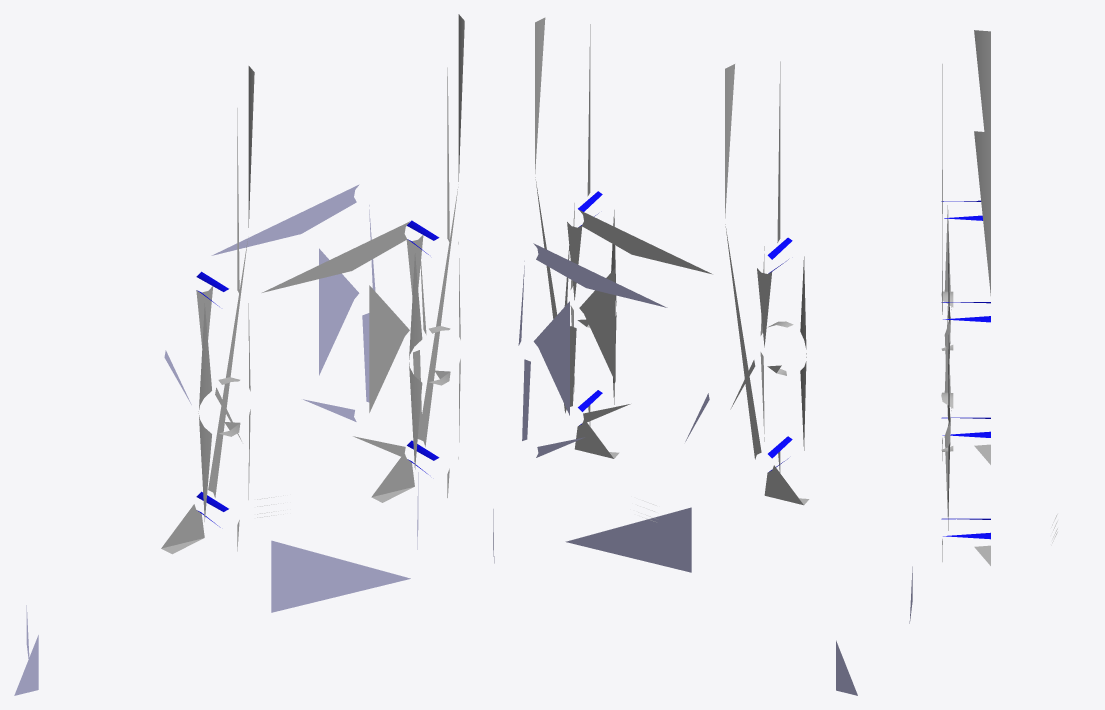
3 views of the same model, side by side, from view 1: azimuth 30°, elevation 25°; view 2: azimuth 150°, elevation 25°; view 3: azimuth 270°, elevation 25° (orthographic). The views are drawn at different scales.
Visible parts, largest first — view 1: F19721000063102000117_001_zb_ub_stiftzieher_17_ba (×3); view 2: F19721000063102000117_001_zb_ub_stiftzieher_17_ba (×3); view 3: F19721000063102000117_001_zb_ub_stiftzieher_17_ba (×2).
Boxes of the visible parts, bbox=[...] form: F19721000063102000117_001_zb_ub_stiftzieher_17_ba (×3): bbox=[14, 14, 464, 695]; F19721000063102000117_001_zb_ub_stiftzieher_17_ba (×3): bbox=[493, 17, 912, 695]; F19721000063102000117_001_zb_ub_stiftzieher_17_ba (×2): bbox=[941, 30, 1057, 565].
Size of the model in its own units: 122 by 37.5 by 168.
